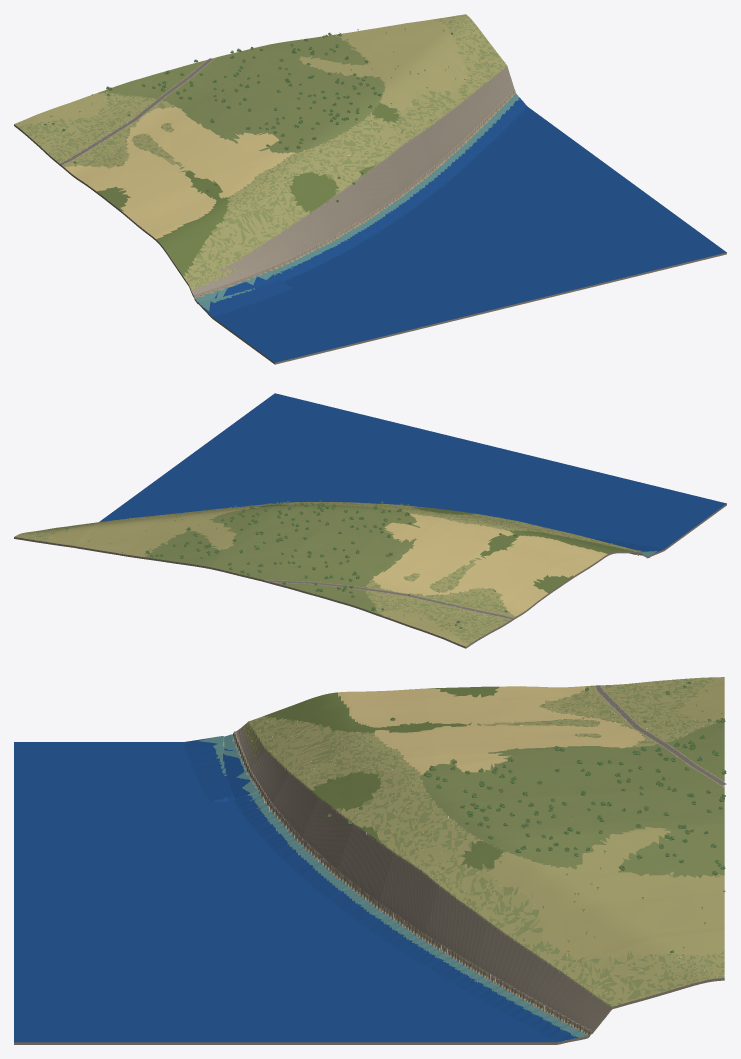
Rendered from parca_+6_-10-yakin.glb.
The picture shows the model from 3 angles, top to bottom: view 1: azimuth 30°, elevation 25°; view 2: azimuth 150°, elevation 25°; view 3: azimuth 270°, elevation 25°; orthographic projection. The views are drawn at different scales.
Parts seen in each view (by area): view 1: parca_+6_-10_arazi, parca_+6_-10_bitkiler, parca_+6_-10_yollar; view 2: parca_+6_-10_arazi, parca_+6_-10_bitkiler, parca_+6_-10_yollar; view 3: parca_+6_-10_arazi, parca_+6_-10_bitkiler, parca_+6_-10_yollar.
Part boxes in pixels (x1,y1,x2,y2): parca_+6_-10_arazi: [14, 14, 726, 364]; parca_+6_-10_bitkiler: [44, 28, 497, 268]; parca_+6_-10_yollar: [59, 58, 212, 164]; parca_+6_-10_arazi: [14, 393, 726, 648]; parca_+6_-10_bitkiler: [65, 500, 637, 631]; parca_+6_-10_yollar: [268, 580, 512, 619]; parca_+6_-10_arazi: [14, 677, 724, 1044]; parca_+6_-10_bitkiler: [263, 682, 726, 998]; parca_+6_-10_yollar: [596, 685, 726, 785].
Size of the model in its own units: 1001 by 150 by 1003.
